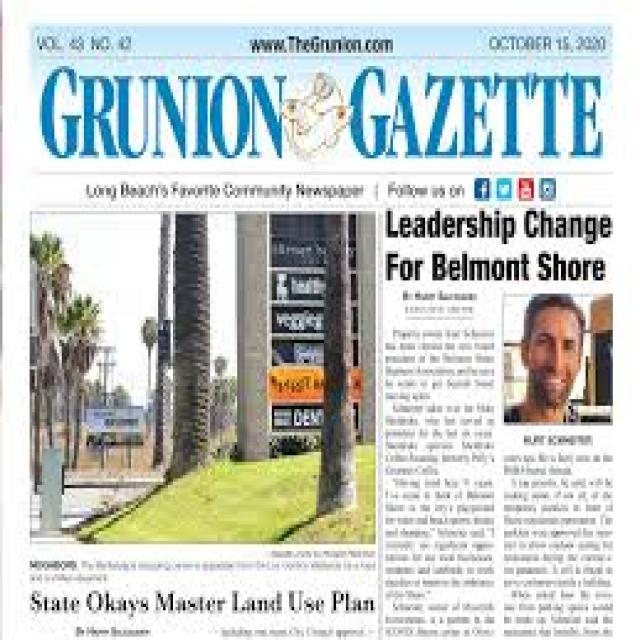paper: (6, 10, 626, 640)
